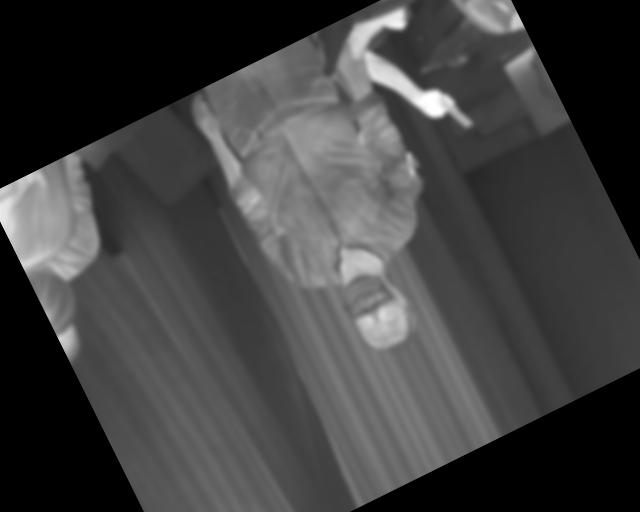face: (332, 260, 427, 364)
